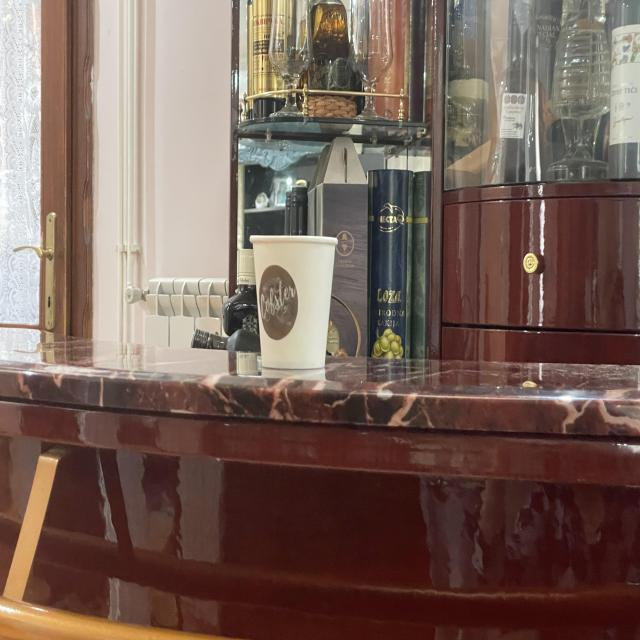small: (246, 231, 342, 378)
